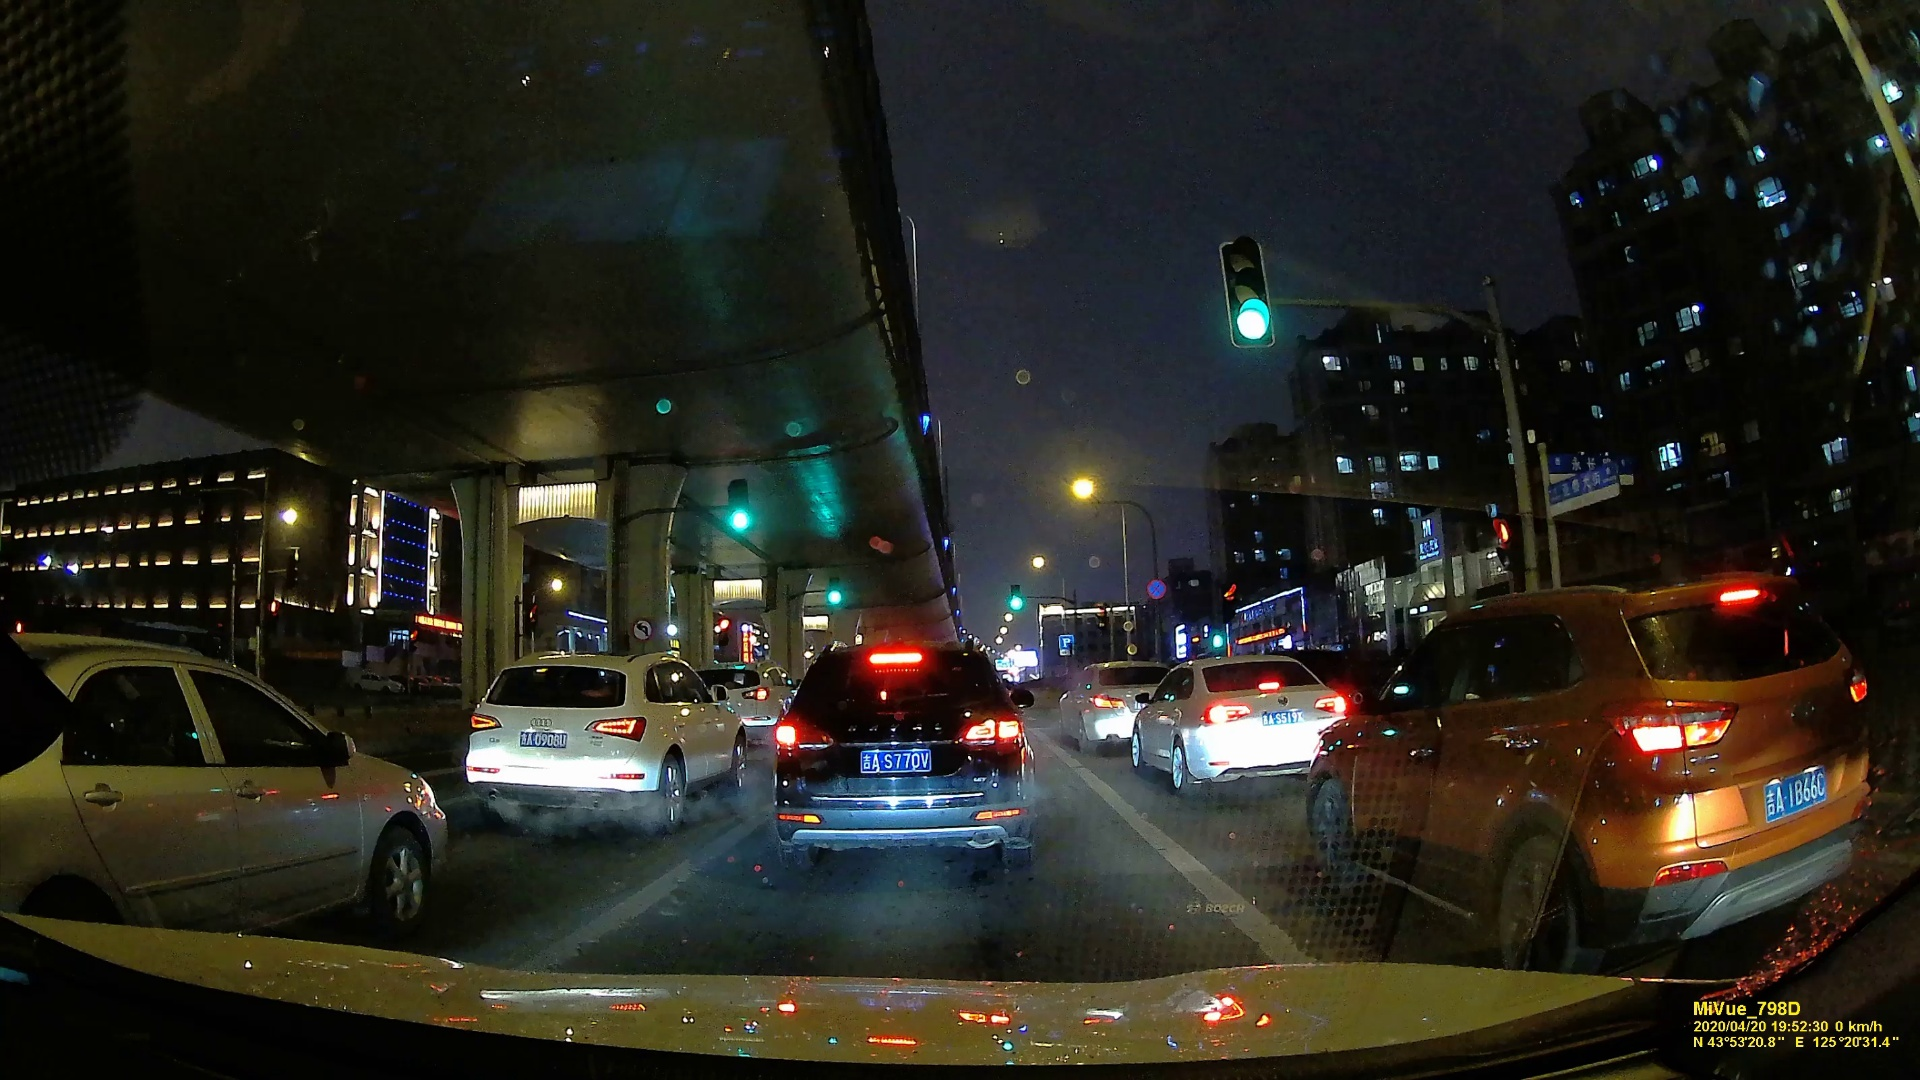traffic_sign: (1221, 235, 1284, 352), (1544, 465, 1625, 502), (1491, 516, 1520, 574), (727, 480, 749, 533), (1145, 576, 1168, 600), (828, 576, 845, 607), (1058, 632, 1075, 659), (1007, 585, 1023, 615), (633, 618, 653, 640)
vehicle: (1305, 566, 1865, 971), (1, 632, 440, 952), (770, 647, 1033, 876), (458, 647, 750, 824), (1130, 649, 1353, 795), (1058, 673, 1153, 756)
